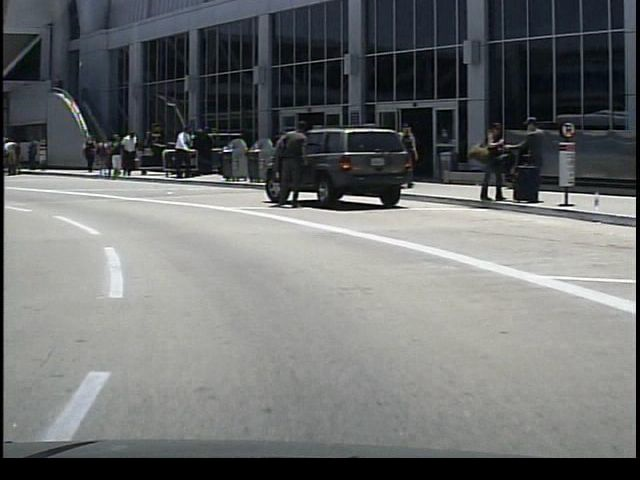person: (506, 114, 547, 202), (273, 117, 306, 216), (470, 116, 504, 204), (168, 123, 192, 181), (117, 128, 137, 179), (102, 131, 121, 181), (75, 131, 94, 176)
